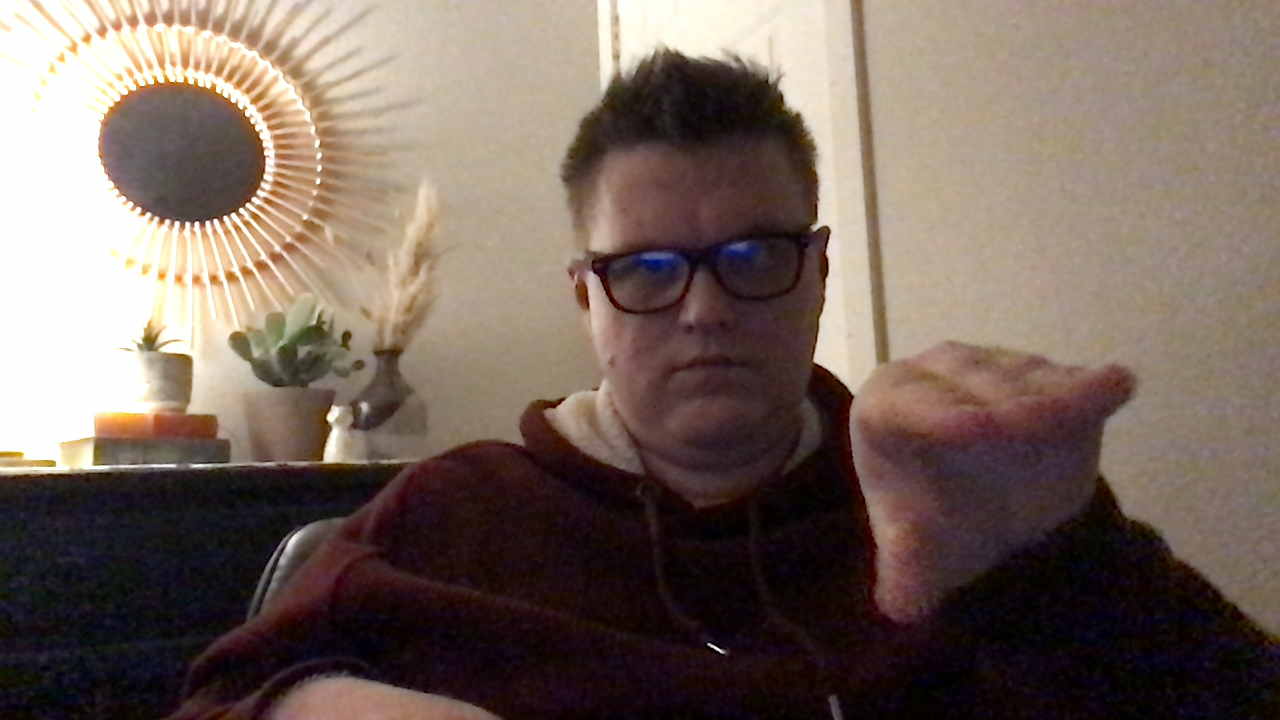no: (847, 338, 1142, 621)
